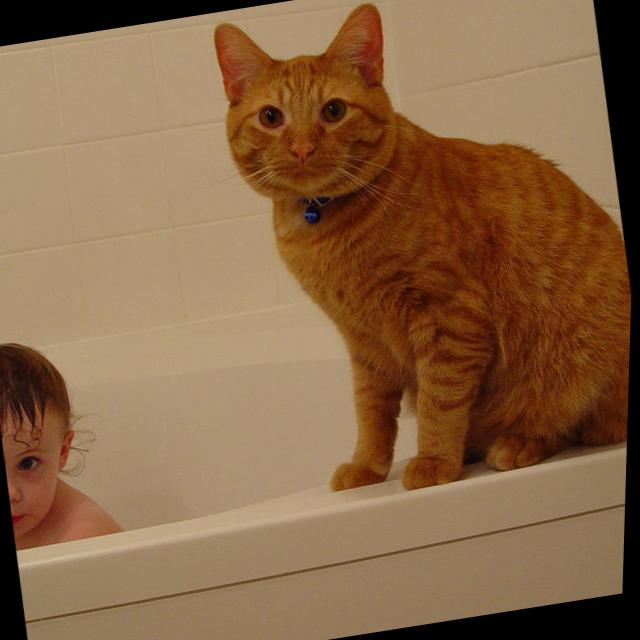animals: (217, 0, 393, 169)
